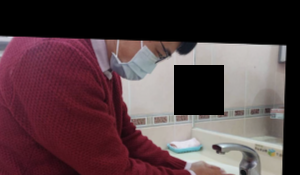with_mask: (107, 40, 175, 82)
